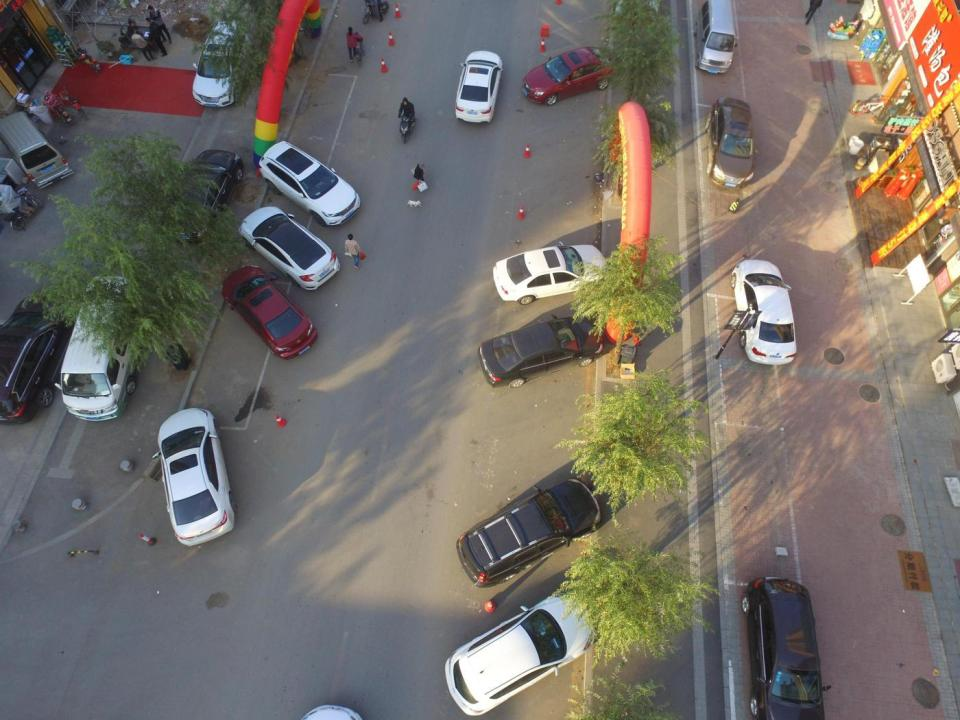car: (444, 580, 616, 716), (454, 473, 604, 589), (741, 574, 833, 720), (150, 405, 237, 549), (476, 312, 605, 390), (0, 293, 75, 426), (220, 264, 320, 360), (256, 140, 362, 227), (238, 204, 341, 292), (158, 149, 246, 247), (729, 257, 798, 367), (492, 241, 610, 305), (191, 16, 256, 109), (520, 45, 618, 106), (705, 95, 759, 190), (455, 49, 504, 124)
van: (52, 274, 144, 421), (1, 109, 74, 198), (692, 0, 738, 74)
